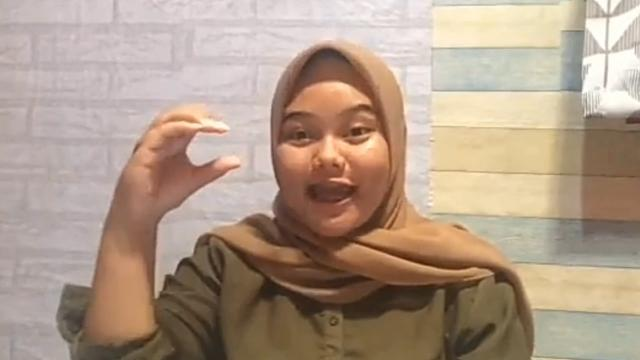C: (111, 104, 241, 218)
